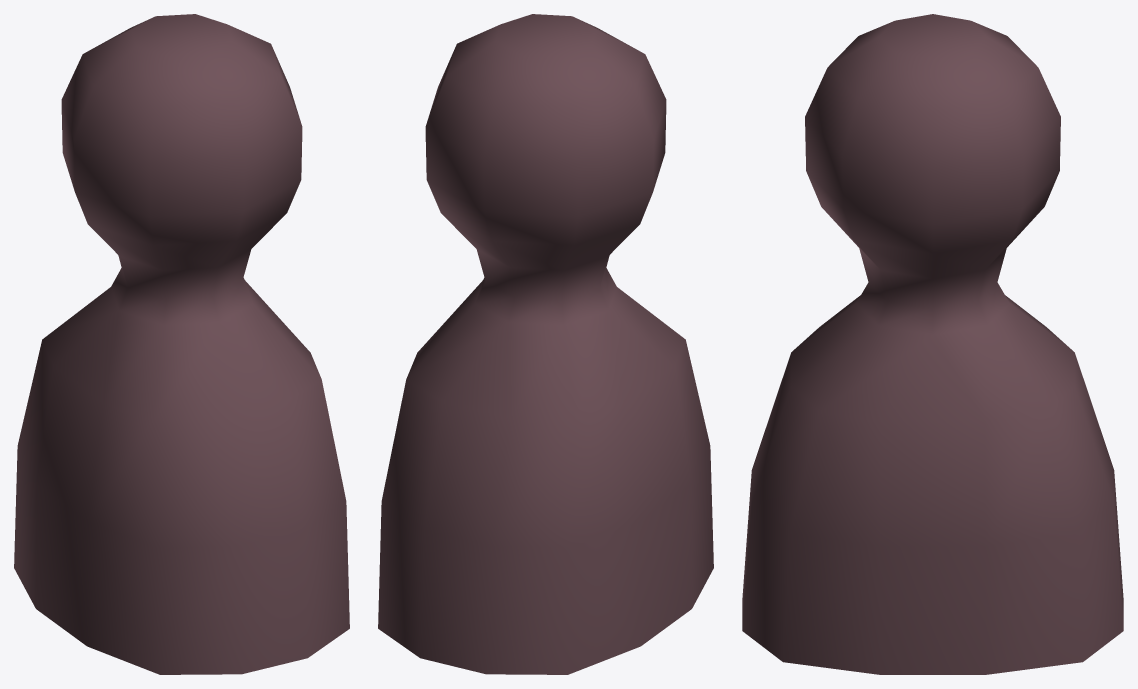
Rendered from Pawn_Brown.fbx.
3 renders of one model, left to right at view 1: azimuth 30°, elevation 25°; view 2: azimuth 150°, elevation 25°; view 3: azimuth 270°, elevation 25°, orthographic. The views are drawn at different scales.
Visible parts, largest first — view 1: Pawn_Brown; view 2: Pawn_Brown; view 3: Pawn_Brown.
Part boxes in pixels (left/top/right/bottom): Pawn_Brown: left=14, top=14, right=349, bottom=674; Pawn_Brown: left=378, top=14, right=713, bottom=674; Pawn_Brown: left=742, top=14, right=1123, bottom=674.
Bounding box in the file's own units: 63.06 × 141 × 84.16.
